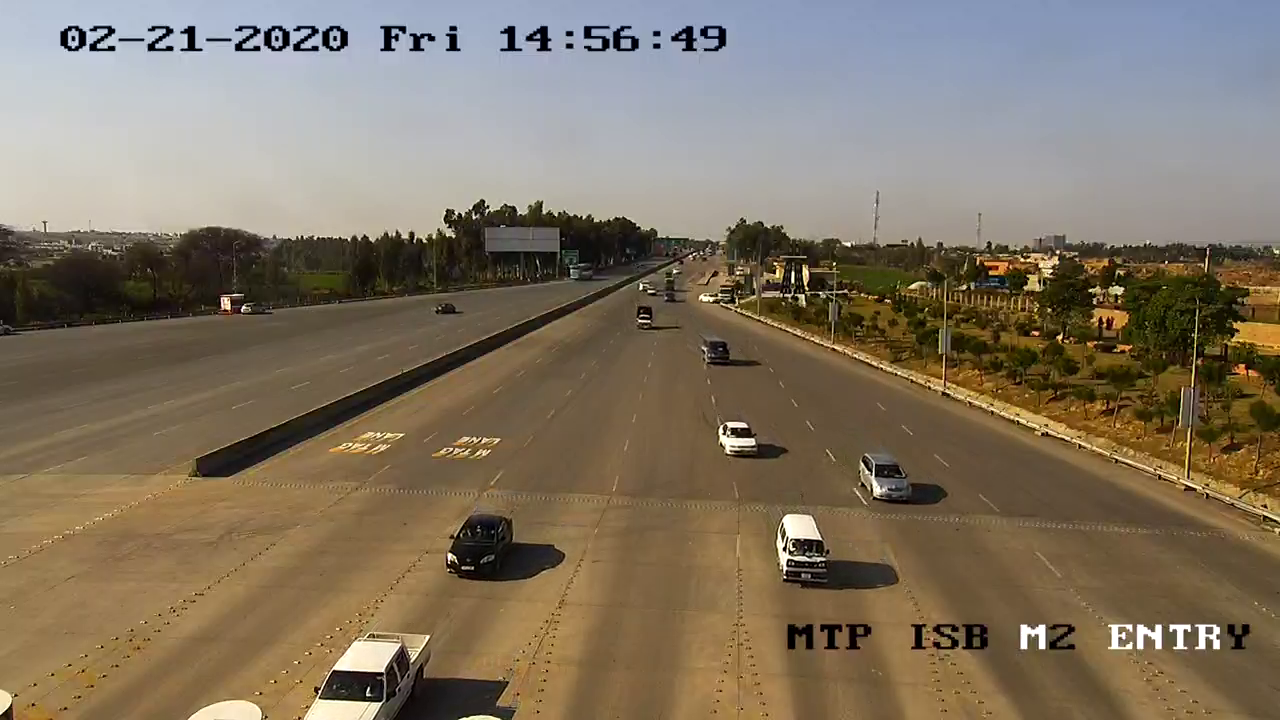f1: (288, 623, 449, 720), (437, 508, 531, 588), (760, 503, 840, 594), (846, 438, 922, 517), (703, 404, 775, 471)
